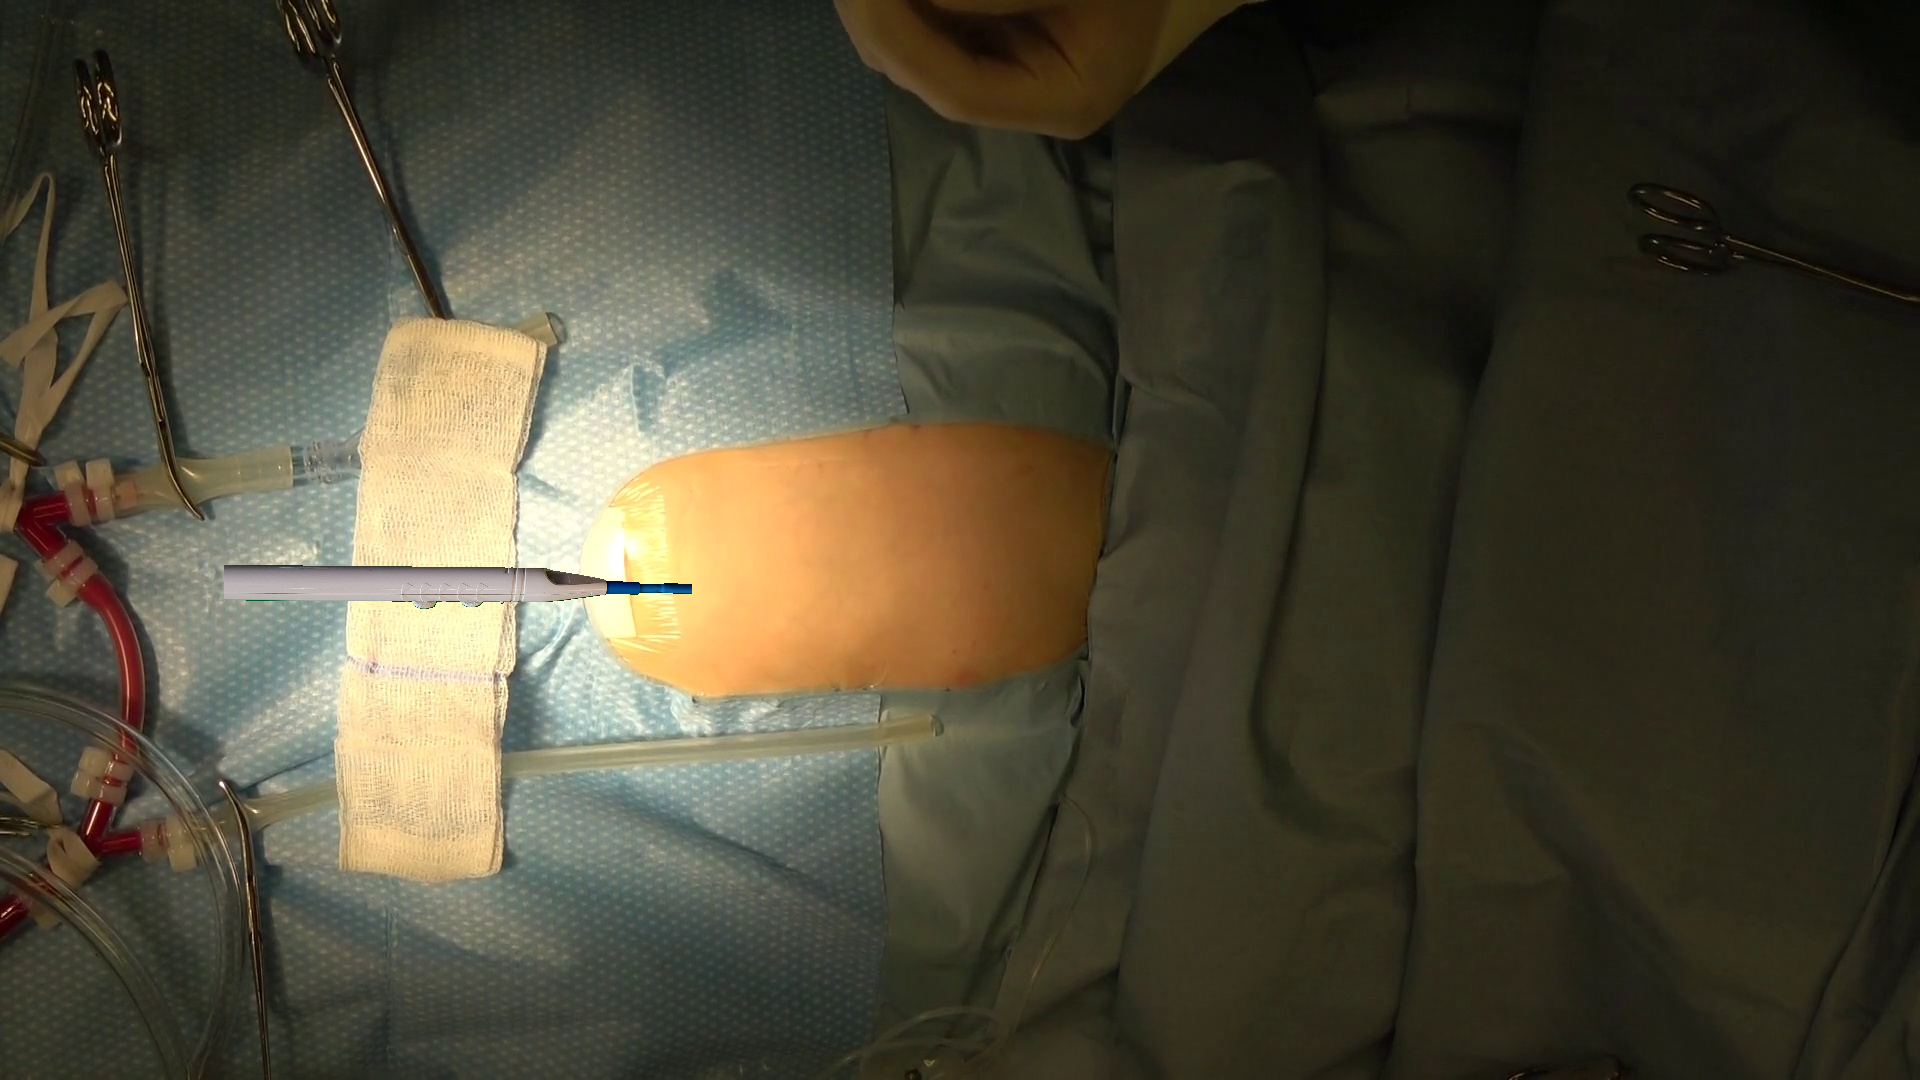diathermy: (224, 564, 691, 608)
